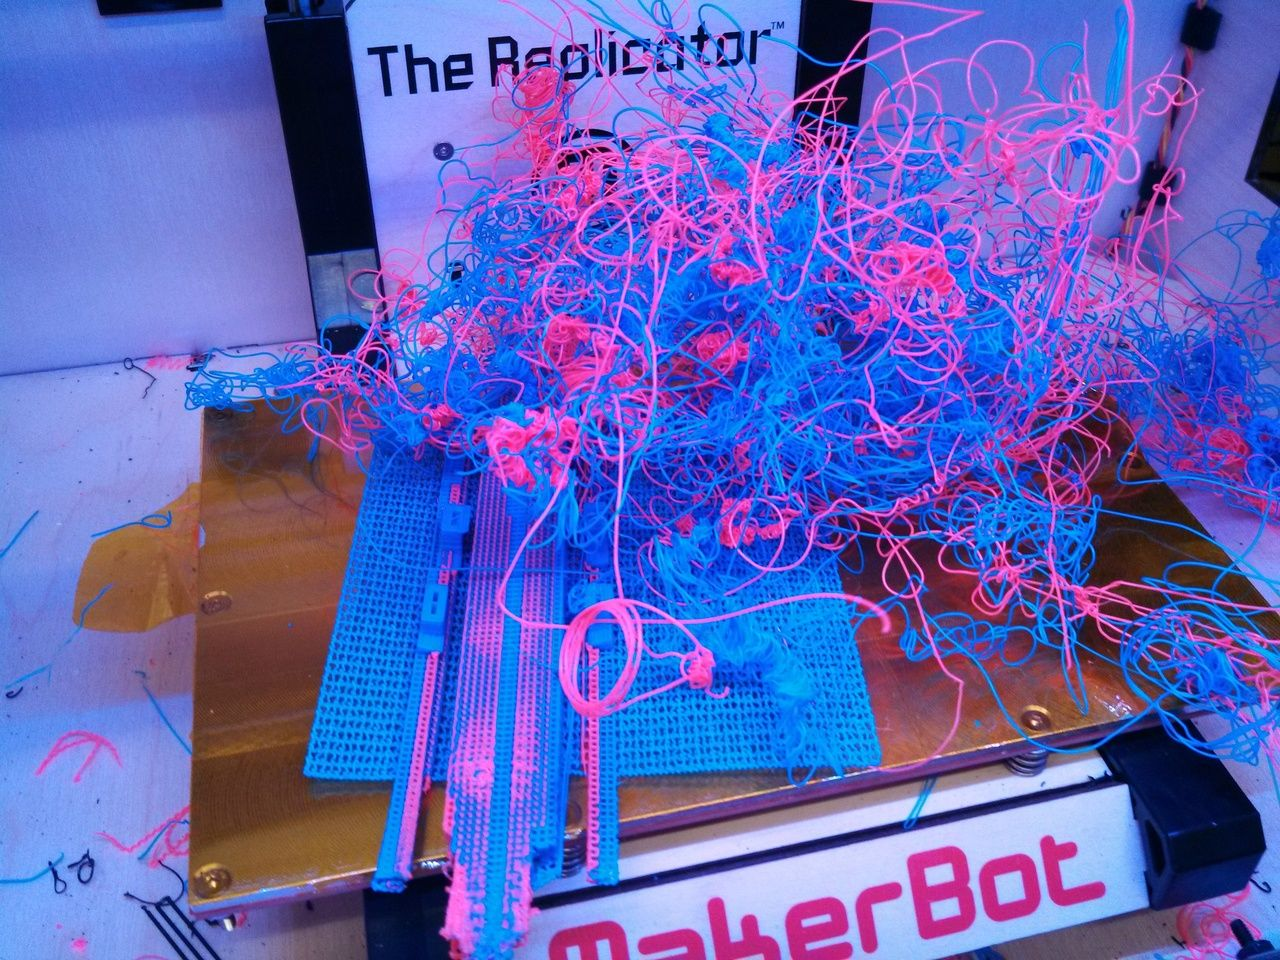fail: (116, 1, 1280, 757), (1155, 879, 1274, 960)
